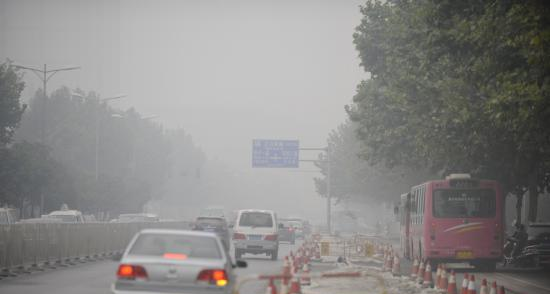bus: (393, 173, 502, 272)
car: (110, 227, 249, 294), (228, 208, 283, 262), (187, 214, 232, 255), (263, 219, 298, 247), (284, 219, 304, 240)
motorbike: (499, 220, 547, 270)
